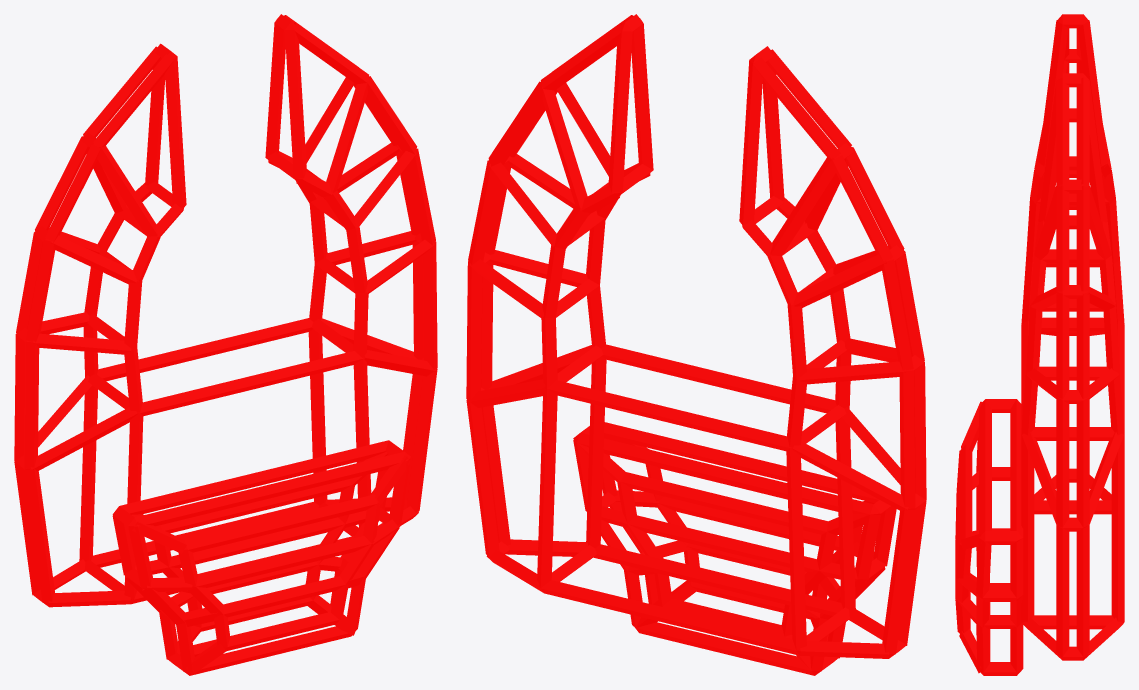
Rendered from Ship.FBX.
3 renders of one model, left to right at view 1: azimuth 30°, elevation 25°; view 2: azimuth 150°, elevation 25°; view 3: azimuth 270°, elevation 25°, orthographic. The views are drawn at different scales.
Parts seen in each view (by area): view 1: Ship_001; view 2: Ship_001; view 3: Ship_001.
Boxes of the visible parts, x1=… form: Ship_001: x1=14, y1=14, x2=437, y2=675; Ship_001: x1=466, y1=14, x2=926, y2=675; Ship_001: x1=955, y1=14, x2=1124, y2=675.
Size of the model in its own units: 4.46 by 6.1 by 1.58.
